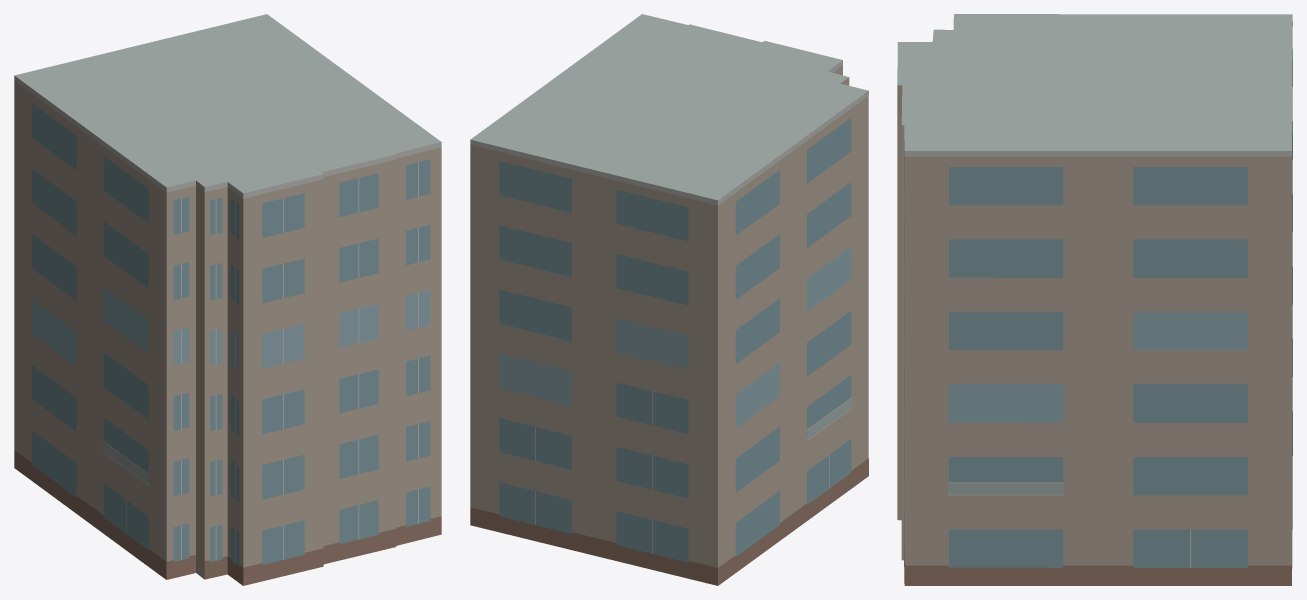
The model's file is survey-upis-32740823.glb.
The picture shows the model from 3 angles, left to right: view 1: azimuth 30°, elevation 25°; view 2: azimuth 150°, elevation 25°; view 3: azimuth 270°, elevation 25°; orthographic projection. The views are drawn at different scales.
Parts seen in each view (by area): view 1: survey-upis-32740823.tmp; view 2: survey-upis-32740823.tmp; view 3: survey-upis-32740823.tmp.
Boxes of the visible parts, x1,y1,x2,y2 form: survey-upis-32740823.tmp: [14, 14, 441, 585]; survey-upis-32740823.tmp: [470, 14, 868, 585]; survey-upis-32740823.tmp: [897, 14, 1292, 585].
Size of the model in its own units: 12.42 by 18.3 by 15.09.
